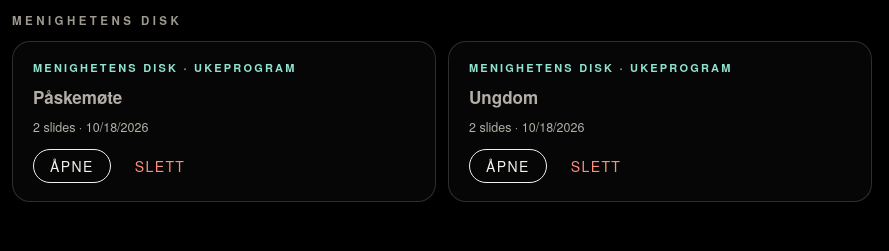
Loop Studio – menighetens disk på startsiden (TB-BB67CB) › avvist sletting gir en melding, og loopen blir stående
Expected: the text "Påskemøte" is shown, [33,85,122,109]
What coordinates should you click on to do the following:
click the button "Slett" below "Påskemøte"
I would click on:
 (160, 166)
Its box is [119,149,201,183].
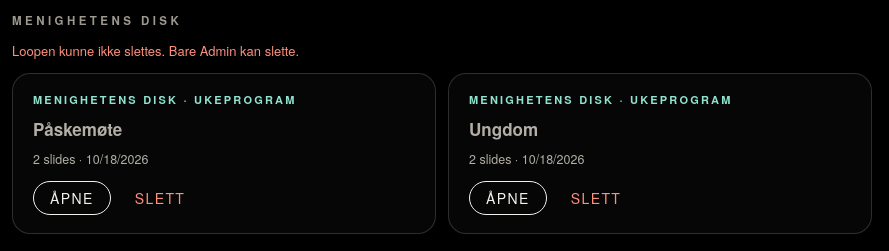
Expected: the text "Påskemøte" is shown, [33,116,122,140]
Now the message shows "kunne ikke slettes", box [12,41,299,60]
